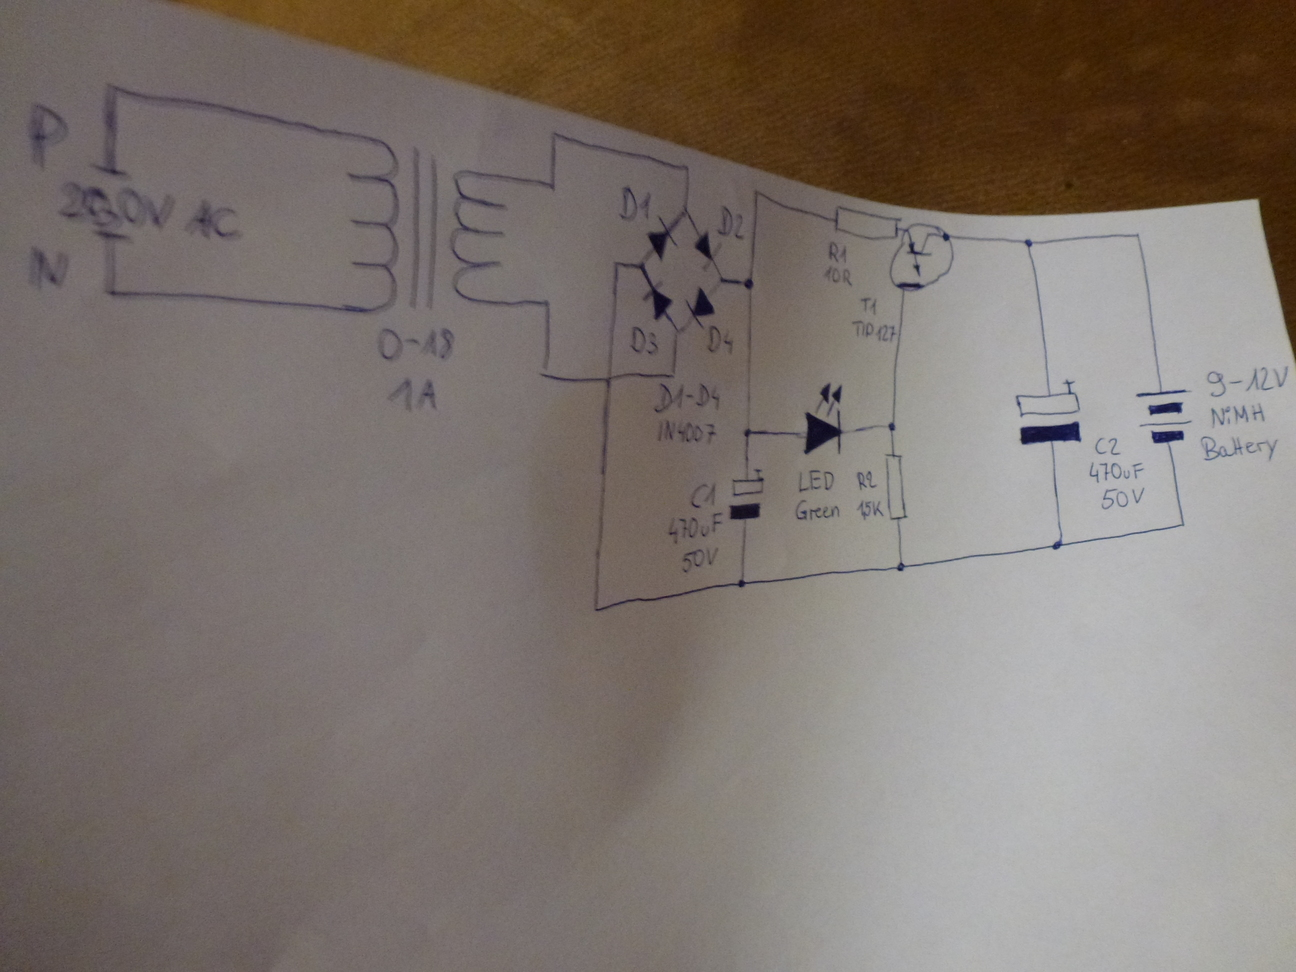capacitor.polarized: (1015, 382, 1085, 451), (726, 465, 769, 525)
crossover: (600, 372, 620, 390)
diode: (639, 279, 680, 325), (645, 216, 679, 261), (684, 285, 717, 328), (691, 229, 720, 271)
diode.light_emitting: (799, 381, 845, 458)
junction: (748, 185, 766, 203), (535, 363, 551, 383), (103, 284, 120, 301), (105, 79, 119, 99), (671, 323, 688, 340), (883, 418, 898, 434), (715, 270, 728, 289), (677, 203, 691, 220), (1050, 537, 1064, 552), (545, 179, 559, 194), (1020, 236, 1036, 250), (739, 426, 754, 440), (547, 128, 561, 142), (540, 296, 553, 311), (741, 276, 754, 290), (735, 576, 747, 589), (894, 560, 906, 573), (680, 161, 692, 174), (1131, 230, 1144, 241), (665, 367, 677, 380), (591, 602, 602, 615), (637, 259, 648, 272), (1176, 519, 1189, 529), (610, 258, 621, 269)
resistor: (831, 202, 902, 242), (884, 451, 910, 524)
terminal: (86, 157, 136, 181), (89, 227, 140, 246)
text: (56, 178, 247, 240), (18, 96, 78, 175), (373, 322, 458, 366), (1209, 362, 1296, 395), (379, 375, 442, 418), (653, 378, 720, 417), (1198, 433, 1279, 464), (26, 245, 74, 292), (666, 503, 722, 544), (654, 418, 714, 446), (1206, 402, 1266, 427), (1088, 459, 1147, 483), (616, 185, 653, 223), (1097, 486, 1147, 513), (795, 466, 837, 495), (793, 497, 845, 521), (850, 318, 897, 342), (679, 546, 718, 573), (703, 324, 735, 356), (686, 480, 719, 511), (717, 203, 744, 242), (628, 325, 657, 358), (819, 265, 855, 287), (854, 497, 884, 523), (854, 466, 880, 493), (1092, 434, 1121, 457), (825, 238, 848, 264), (857, 295, 881, 315)
transformer: (334, 129, 511, 317)
transistor: (886, 221, 957, 294)
voltage.dc: (1130, 386, 1192, 446)
